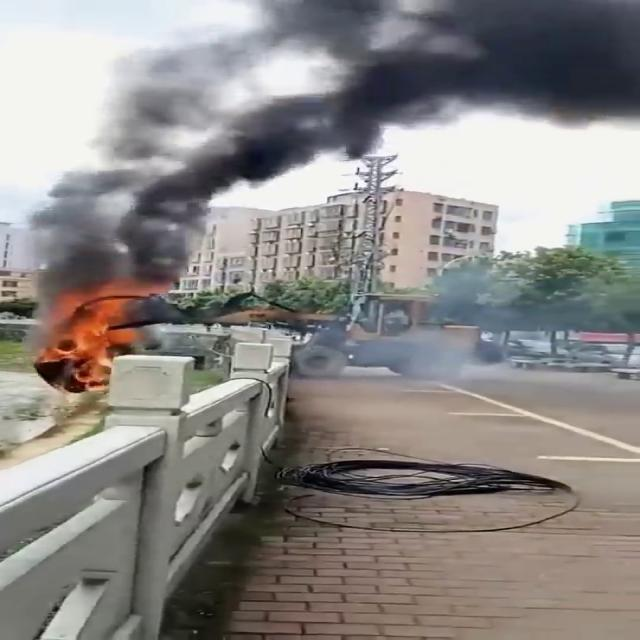Fire: (42, 282, 143, 386)
Smoke: (14, 0, 639, 282), (362, 264, 525, 384)
